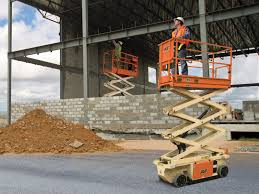Scissor Lift: (151, 37, 233, 188), (102, 49, 140, 96)
